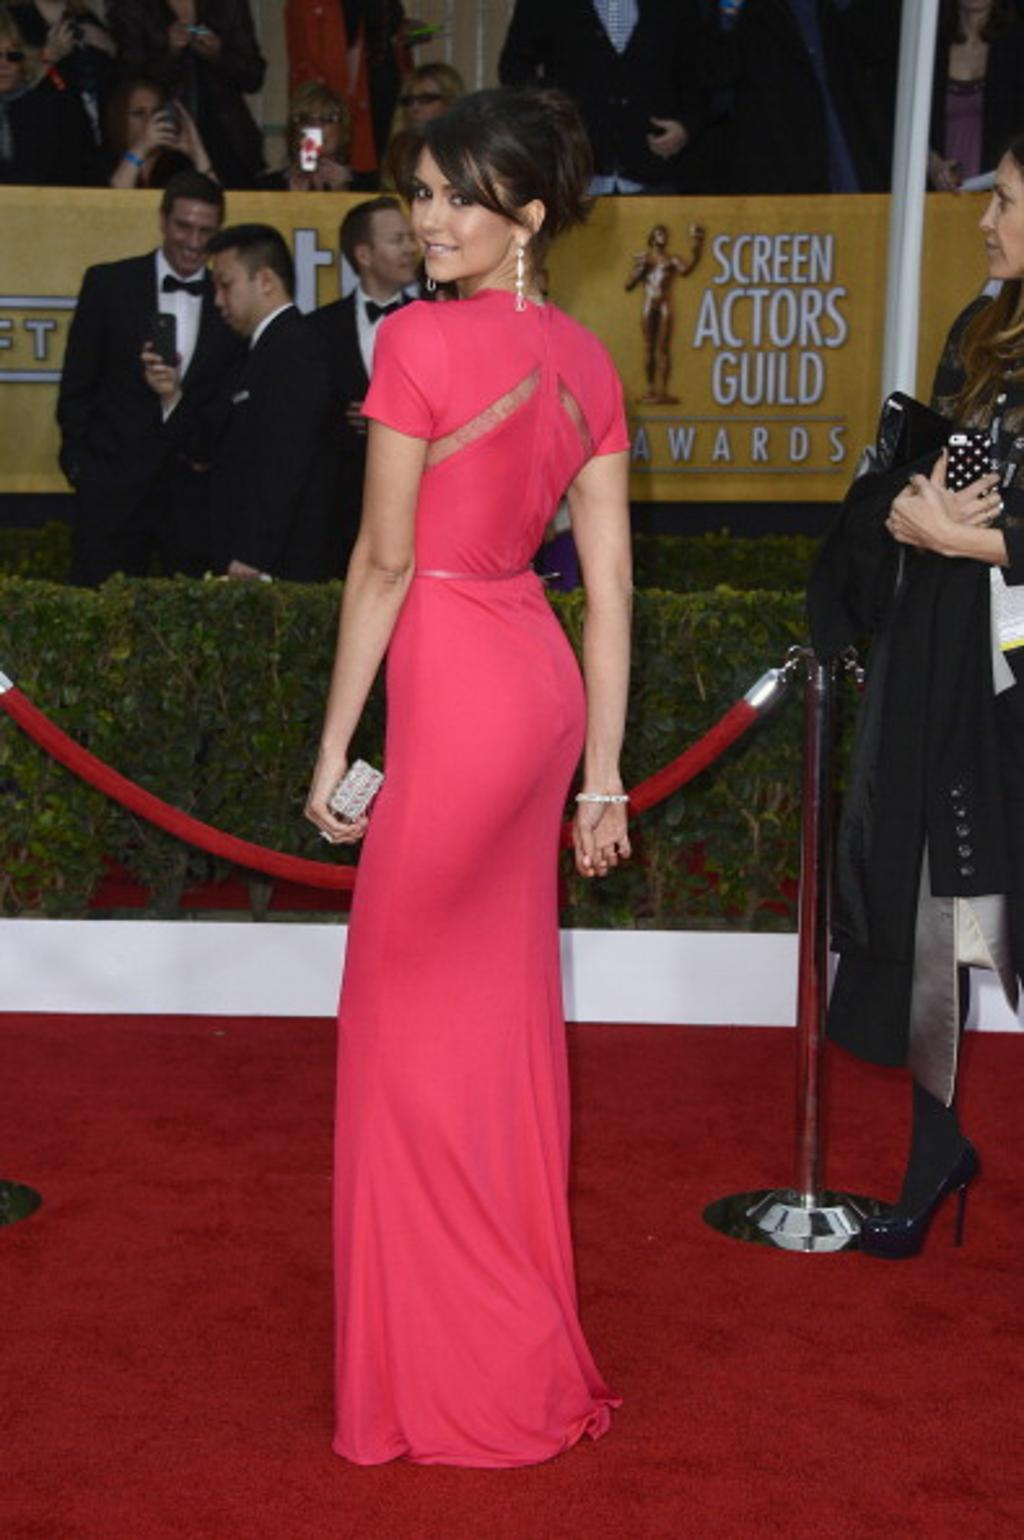face: (412, 142, 517, 281), (984, 158, 1024, 276), (212, 251, 263, 330), (167, 204, 219, 274), (366, 213, 416, 283), (299, 100, 340, 154), (404, 85, 441, 132), (127, 93, 161, 142), (0, 34, 20, 88)
